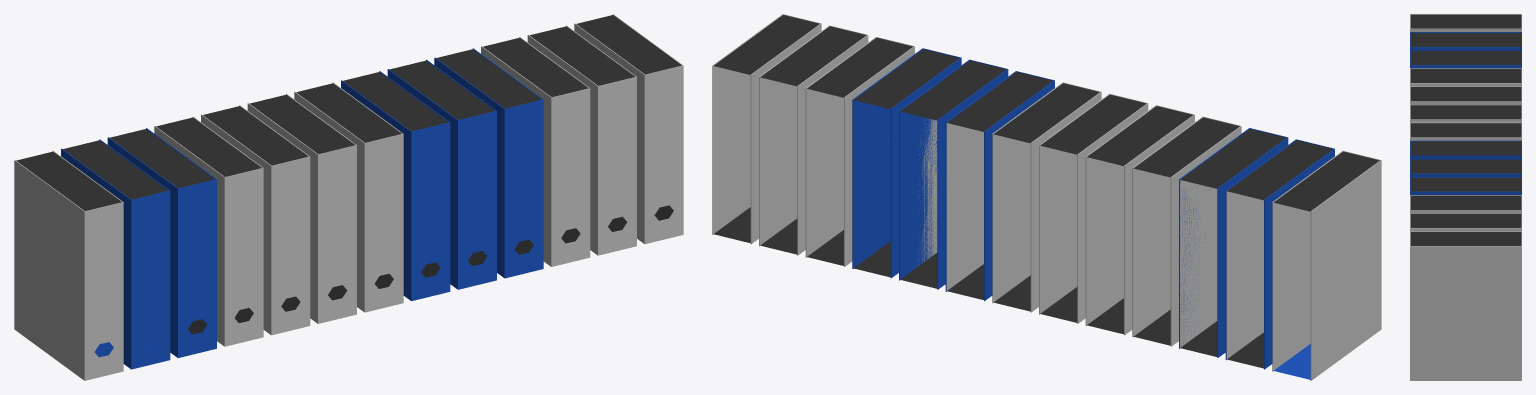
File: Books_02.fbx
3 views of the same model, side by side, from view 1: azimuth 30°, elevation 25°; view 2: azimuth 150°, elevation 25°; view 3: azimuth 270°, elevation 25° (orthographic). The views are drawn at different scales.
Visible parts, largest first — view 1: Book0.023; view 2: Book0.023; view 3: Book0.023.
Part boxes in pixels (box(x1,y1,x2,y2)): Book0.023: box(14, 14, 683, 380); Book0.023: box(712, 14, 1381, 380); Book0.023: box(1410, 14, 1521, 380).
Size of the model in its own units: 76.85 by 20.76 by 15.64.
